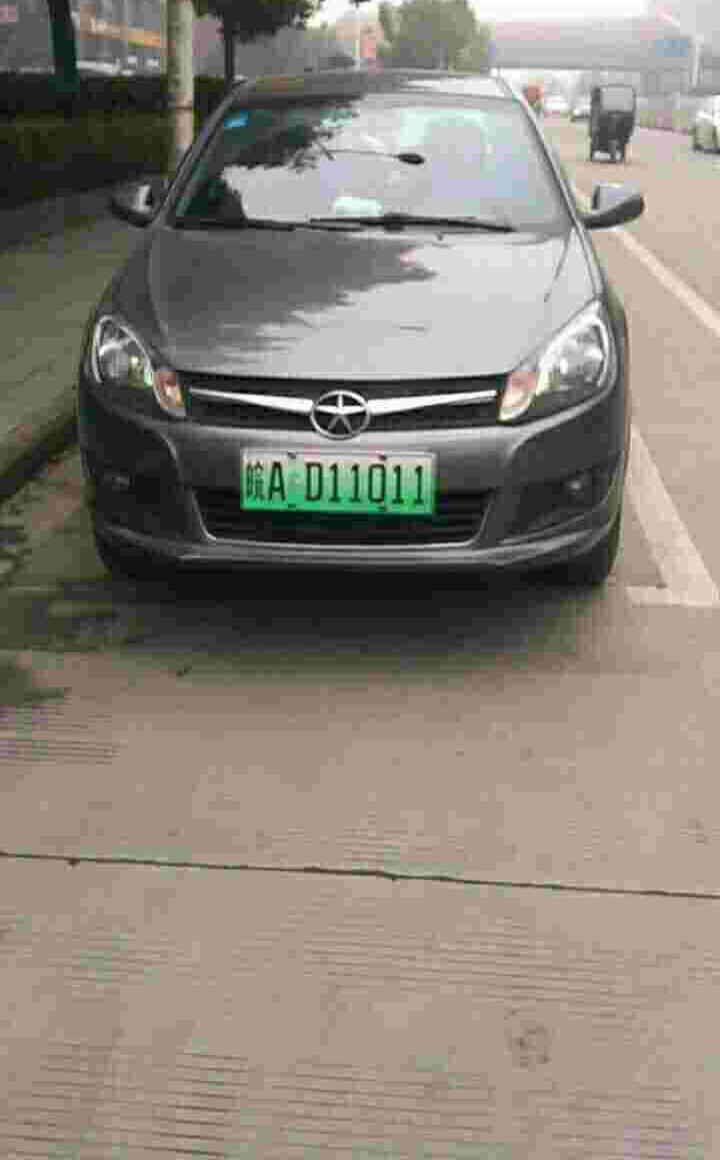car_green: (234, 446, 440, 521)
